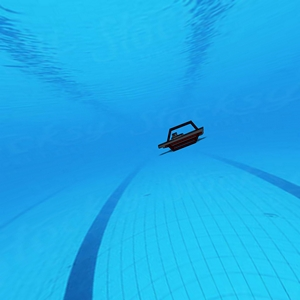submarine: (158, 119, 208, 153)
